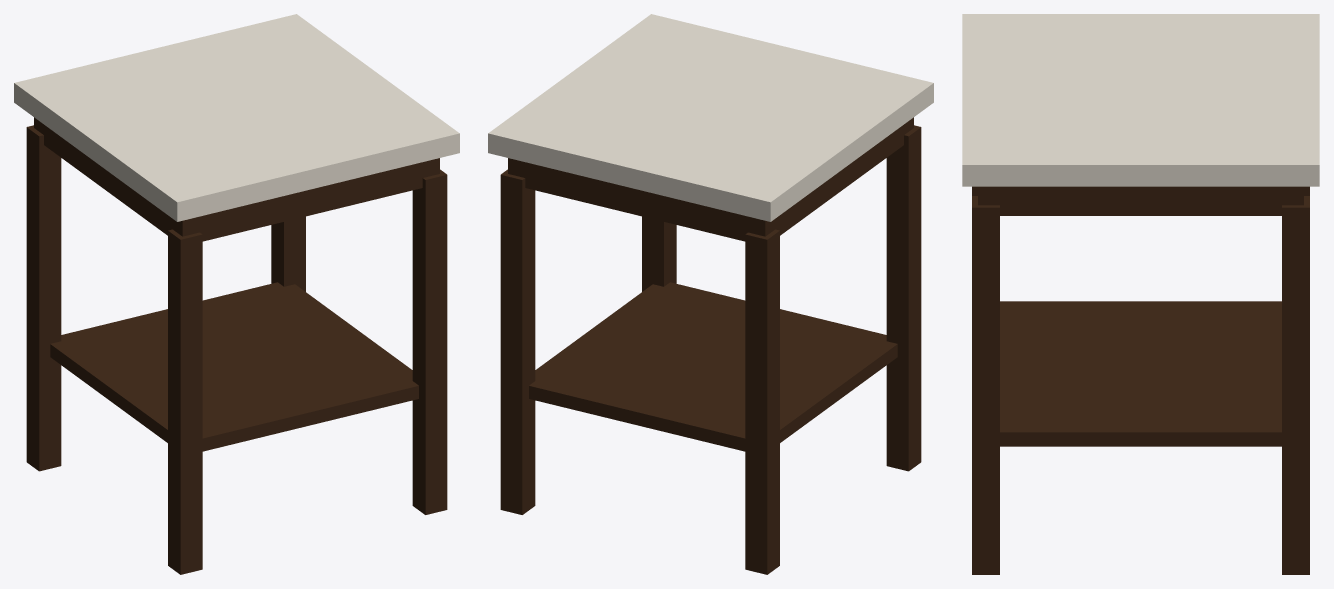
The model's file is side-table.glb.
3 renders of one model, left to right at view 1: azimuth 30°, elevation 25°; view 2: azimuth 150°, elevation 25°; view 3: azimuth 270°, elevation 25°, orthographic. The views are drawn at different scales.
Parts seen in each view (by area): view 1: side-table; view 2: side-table; view 3: side-table.
Boxes of the visible parts, box(x1,y1,x2,y2) form: side-table: box(14, 14, 459, 574); side-table: box(488, 14, 933, 574); side-table: box(962, 14, 1319, 574).
Size of the model in its own units: 0.45 by 0.575 by 0.45.
